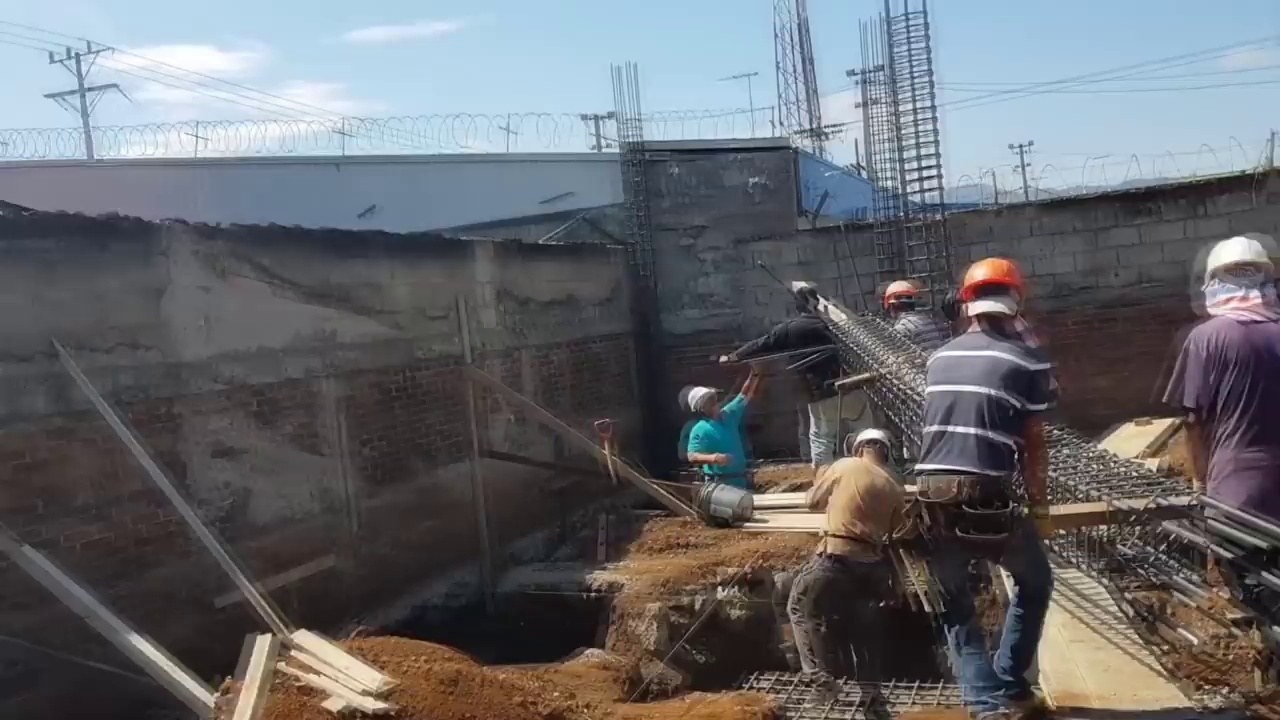helmet: (956, 261, 1029, 318), (1205, 237, 1276, 285), (852, 428, 893, 457), (883, 282, 916, 305), (689, 388, 718, 413)
helmet-off: (790, 285, 832, 322)
helmet-on: (1203, 235, 1280, 325), (956, 258, 1027, 342), (852, 428, 892, 467), (882, 281, 918, 321), (688, 388, 725, 418)
person: (904, 254, 1071, 693), (1158, 233, 1279, 655), (786, 424, 914, 696), (736, 277, 846, 469), (687, 371, 759, 504), (883, 280, 952, 357)
